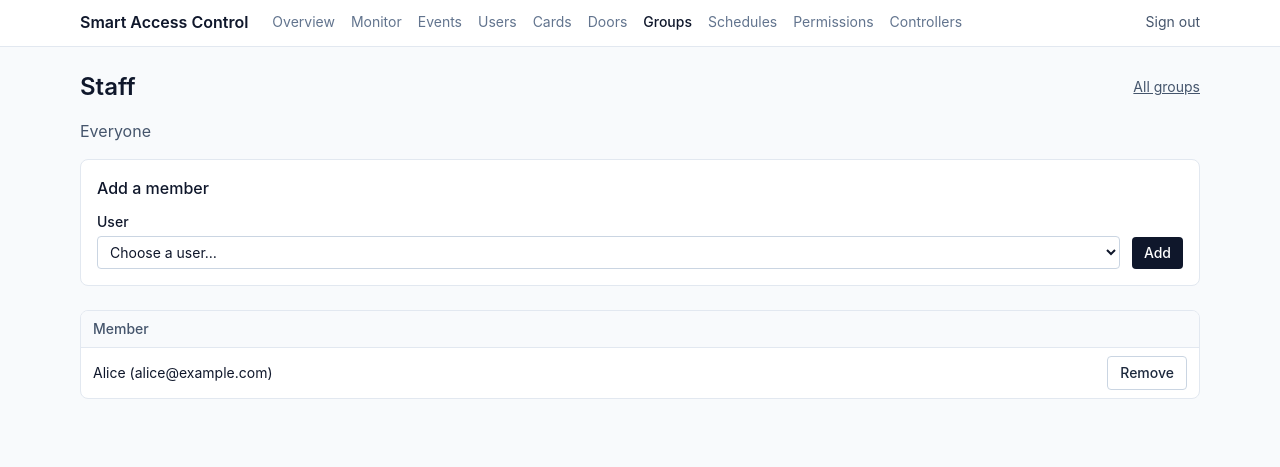
it: permissions and groups › shows members by name and adds only non-members
Expected: the text "Alice (alice@example.com)" is shown, [81,348,822,398]
Select "Bob (bob@example.com)" in the dropdown labelled "User" at (608, 252), box [97,236,1120,269]
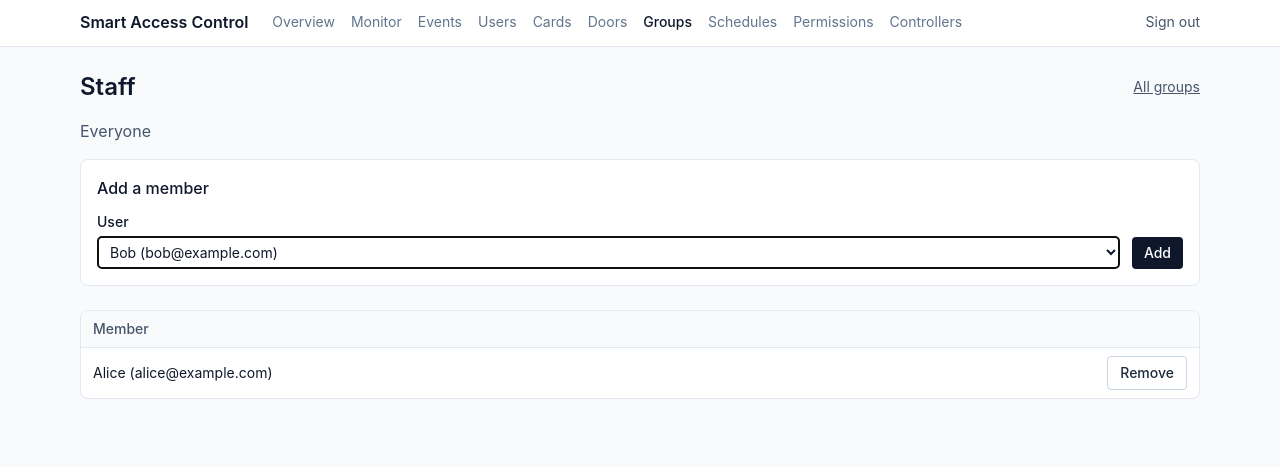
Click the button "Add" at (1157, 253), box [1132,237,1183,269]
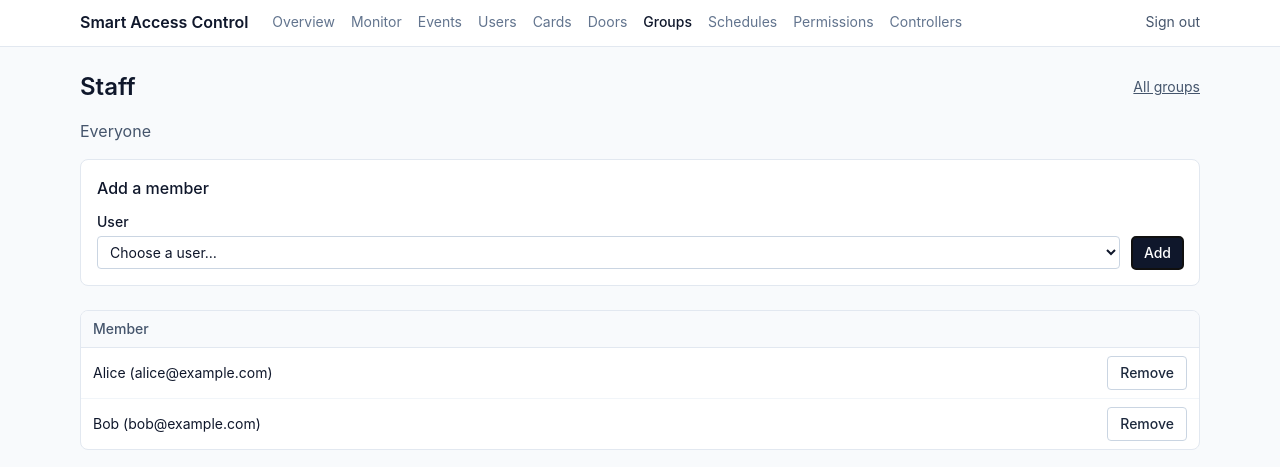
Result: the text "Bob (bob@example.com)" is shown at [81,398,822,449]
